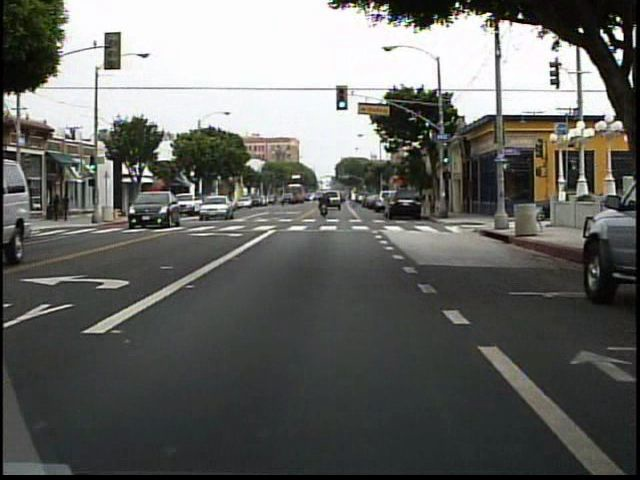person: (318, 189, 331, 218), (63, 191, 75, 222), (53, 193, 64, 223)
